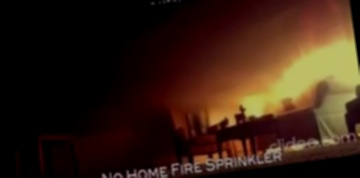fire: (224, 21, 360, 128)
